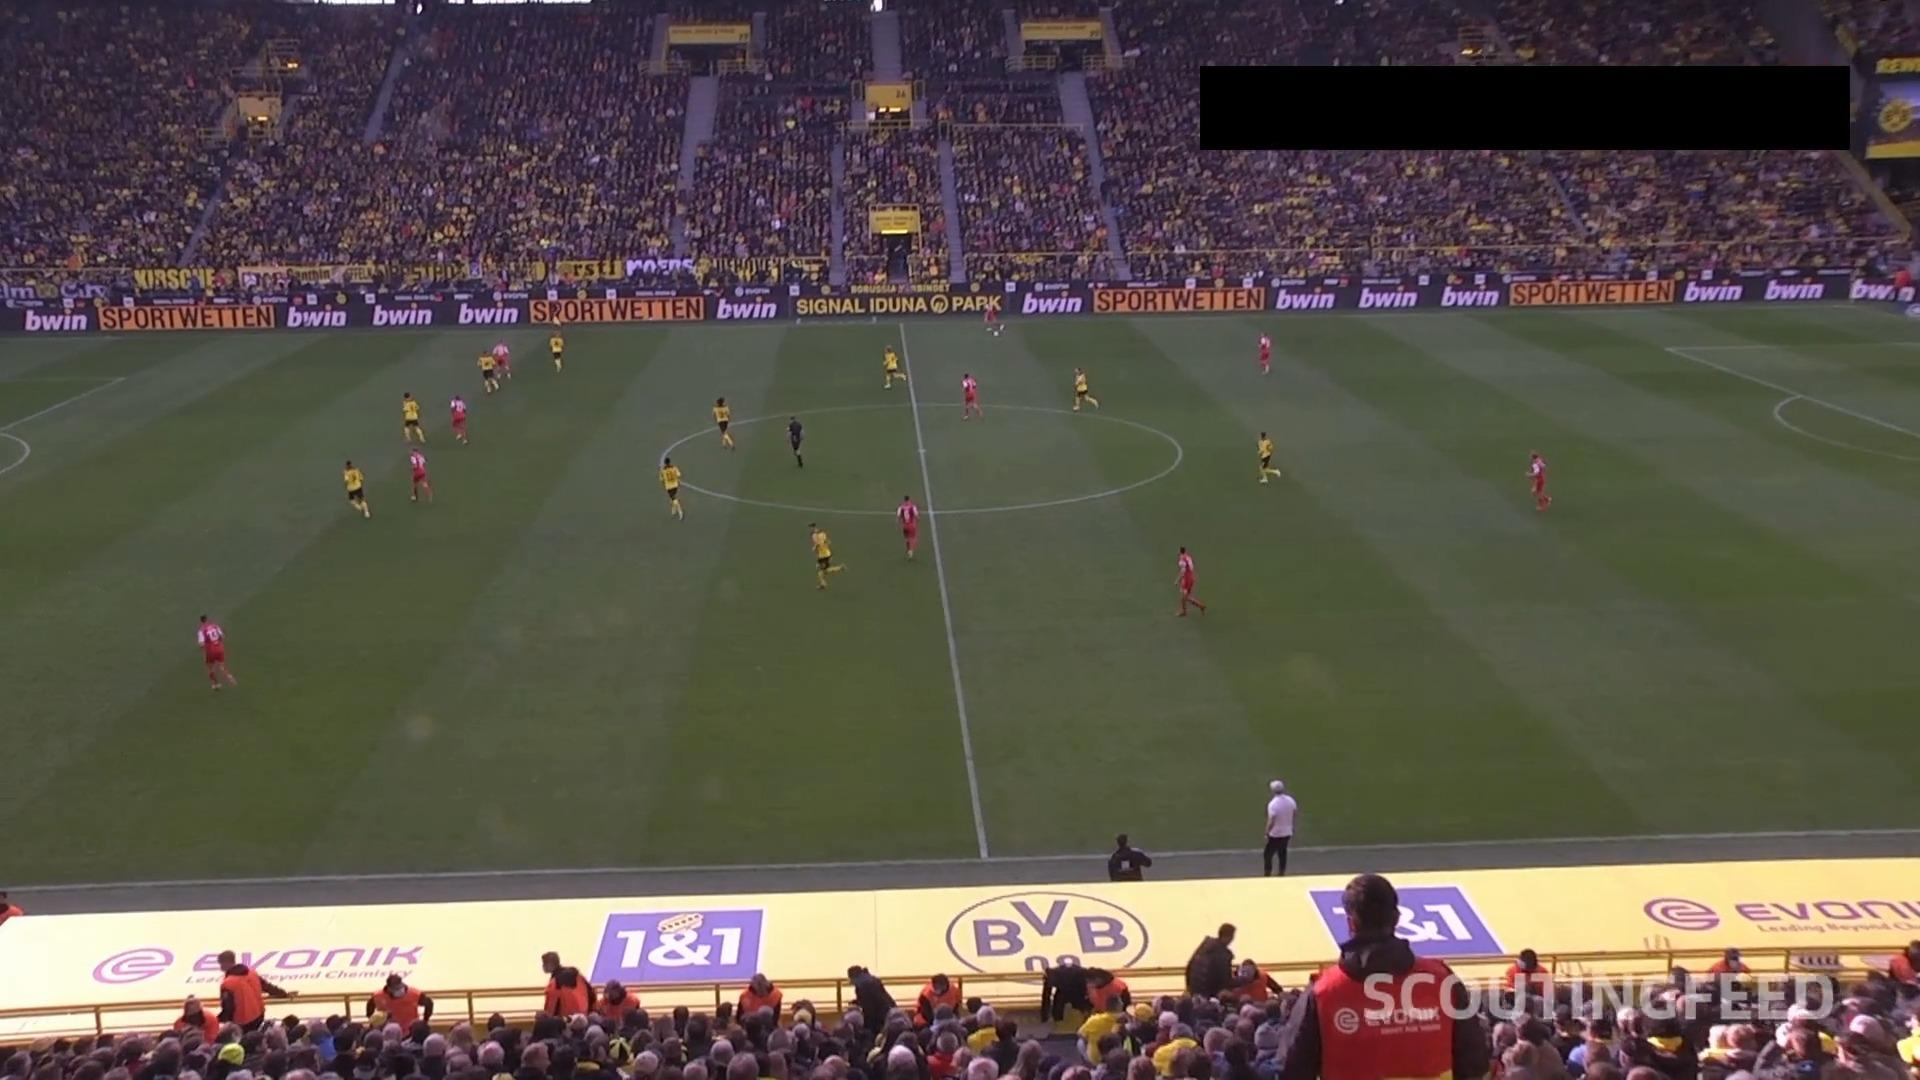ball: (992, 328, 1001, 338)
